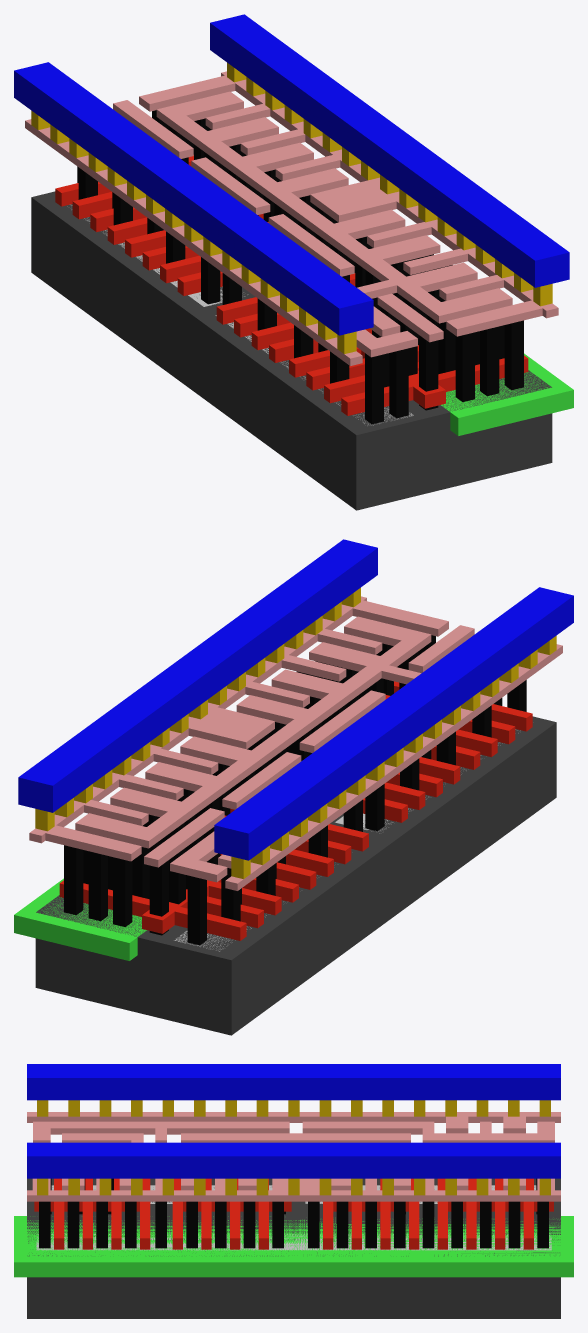
The model's file is sky130_fd_sc_hd__nand4_4.obj.
3 views of the same model, one above another, from view 1: azimuth 30°, elevation 25°; view 2: azimuth 150°, elevation 25°; view 3: azimuth 270°, elevation 25° (orthographic). The views are drawn at different scales.
Parts seen in each view (by area): view 1: subs, metal1, li, licon, poly, mcon, nwell, diff; view 2: subs, metal1, li, licon, poly, mcon, nwell; view 3: metal1, subs, li, nwell, poly, licon, mcon, tap.
Part boxes in pixels (x1=…): subs: x1=31, y1=191, x2=552, y2=510; metal1: x1=14, y1=14, x2=569, y2=335; li: x1=25, y1=71, x2=558, y2=365; licon: x1=77, y1=110, x2=523, y2=424; poly: x1=55, y1=155, x2=528, y2=415; mcon: x1=31, y1=62, x2=552, y2=353; nwell: x1=441, y1=353, x2=573, y2=435; diff: x1=67, y1=204, x2=413, y2=425; subs: x1=35, y1=716, x2=556, y2=1035; metal1: x1=18, y1=539, x2=573, y2=860; li: x1=29, y1=596, x2=562, y2=890; licon: x1=64, y1=635, x2=526, y2=945; poly: x1=59, y1=681, x2=532, y2=940; mcon: x1=35, y1=587, x2=556, y2=878; nwell: x1=14, y1=878, x2=146, y2=960; metal1: x1=27, y1=1064, x2=560, y2=1178; subs: x1=27, y1=1178, x2=560, y2=1318; li: x1=27, y1=1112, x2=560, y2=1201; nwell: x1=14, y1=1216, x2=573, y2=1277; poly: x1=34, y1=1178, x2=553, y2=1249; licon: x1=39, y1=1178, x2=548, y2=1248; mcon: x1=37, y1=1100, x2=550, y2=1195; tap: x1=36, y1=1231, x2=551, y2=1250.
Size of the model in its own units: 3.2 by 2.74 by 8.2.
